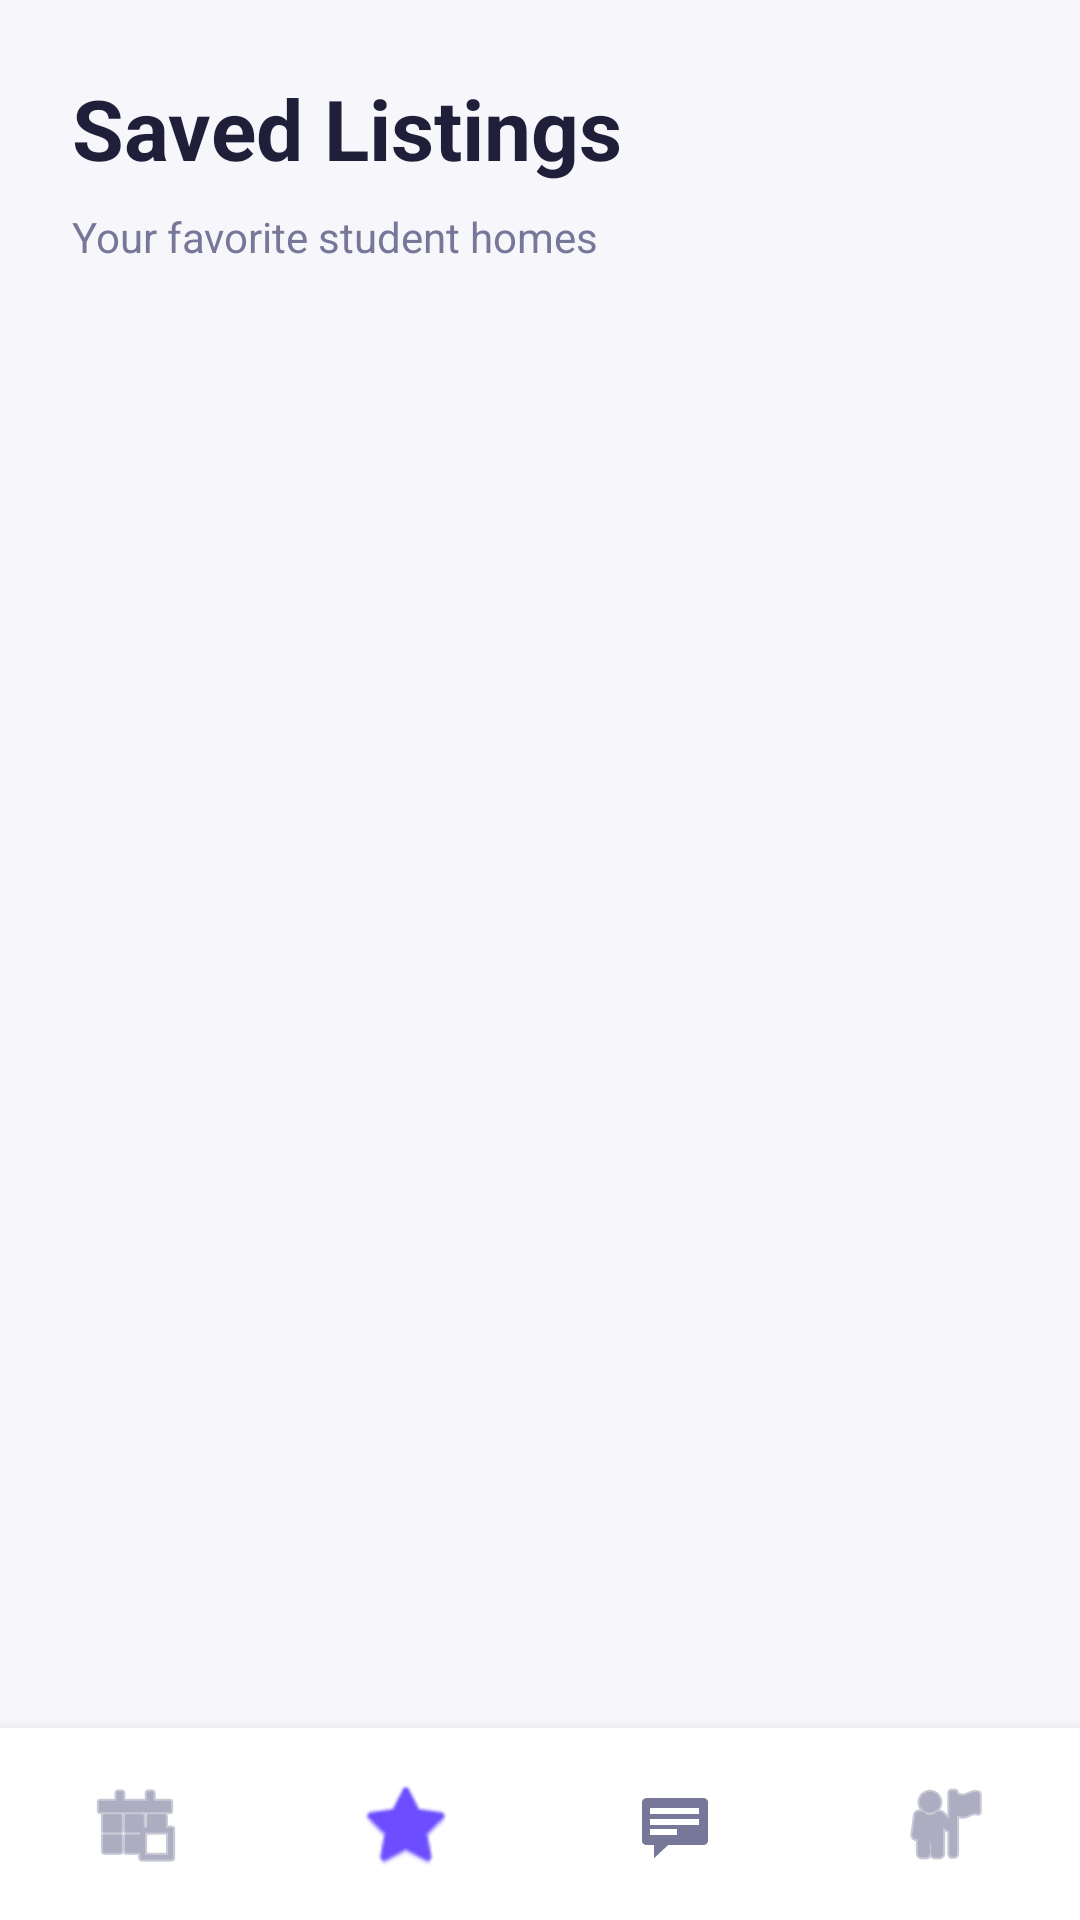

Named icons in this screenshot (1080×1920) and their bounding boxes, (x1, y1, x2, y2):
Chat: (642, 1798, 708, 1858)
Profile: (910, 1788, 982, 1860)
Saved: (366, 1786, 446, 1863)
